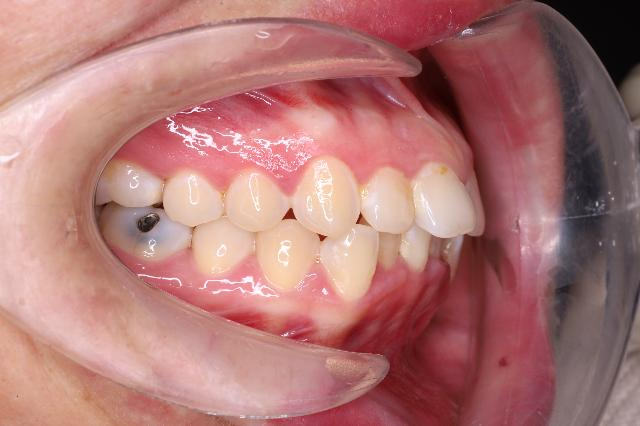canine class II 1/4: (254, 152, 382, 308)
molar class III 1/2: (98, 160, 194, 264)
